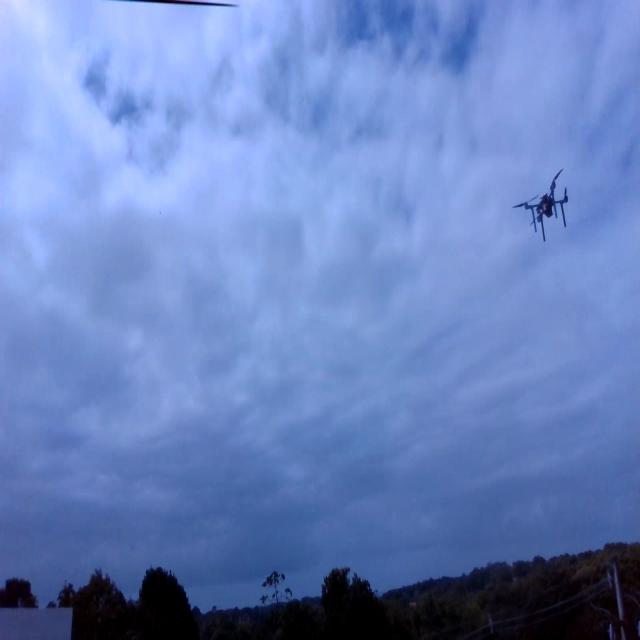-uav-: (509, 164, 585, 244)
